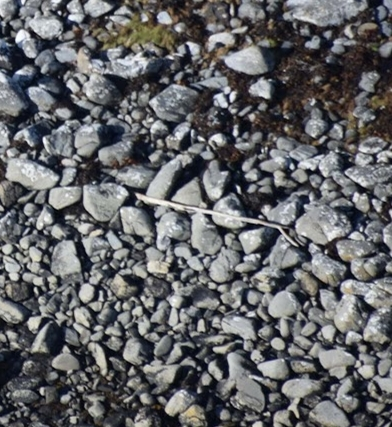tube: (207, 207, 282, 231), (133, 189, 204, 213)
